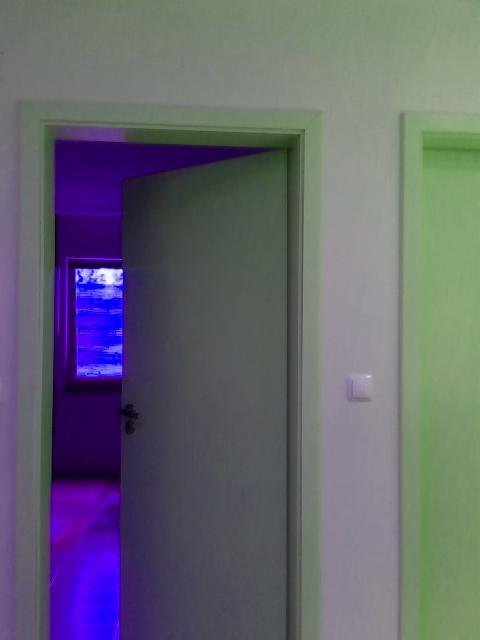semi_door: (14, 93, 322, 639)
